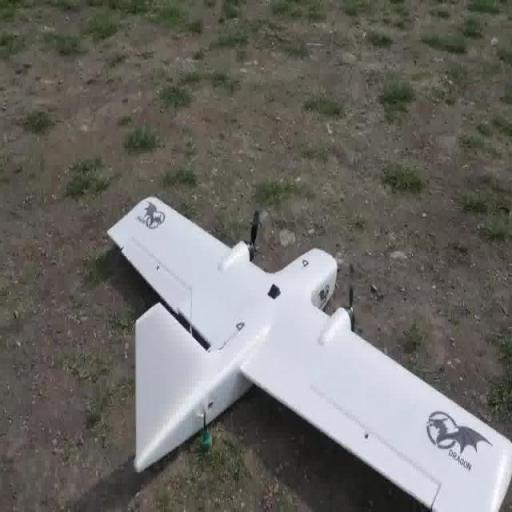uav: (102, 189, 511, 512)
